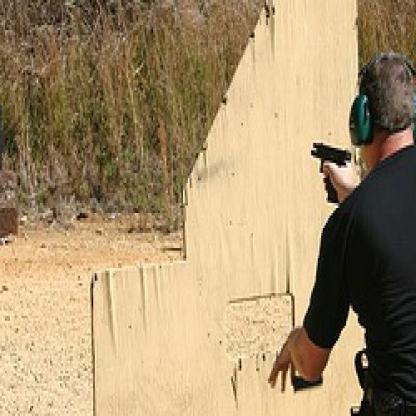gun: (309, 140, 354, 209)
